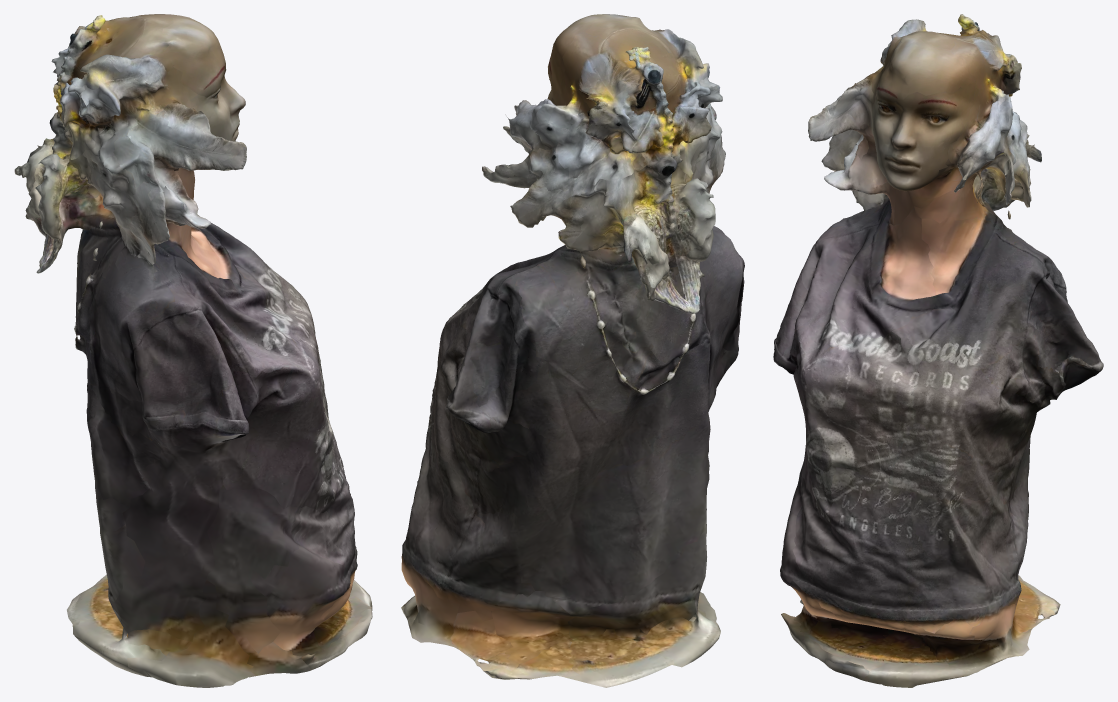
The model's file is Leslie_Omana.glb.
3 views of the same model, side by side, from view 1: azimuth 30°, elevation 25°; view 2: azimuth 150°, elevation 25°; view 3: azimuth 270°, elevation 25° (orthographic). The views are drawn at different scales.
Visible parts, largest first — view 1: mesh_0; view 2: mesh_0; view 3: mesh_0.
Boxes of the visible parts, x1,y1,x2,y2 form: mesh_0: (14,14,372,687); mesh_0: (401,14,744,687); mesh_0: (773,14,1103,687).
Size of the model in its own units: 2.41 by 4.69 by 2.48.
1 material, 1 textured.
